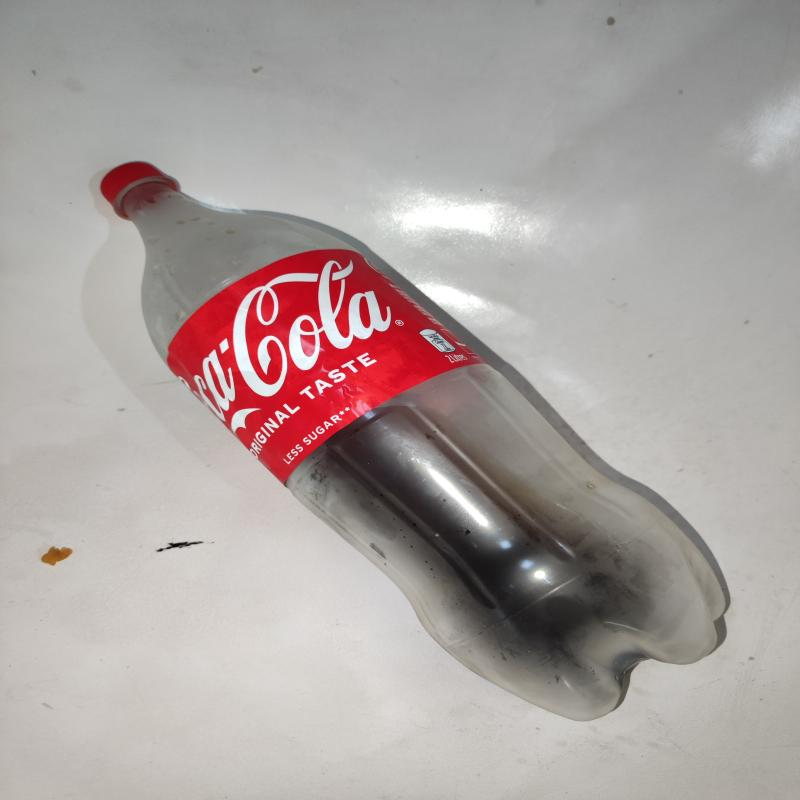plastic bottle: (95, 163, 732, 725)
